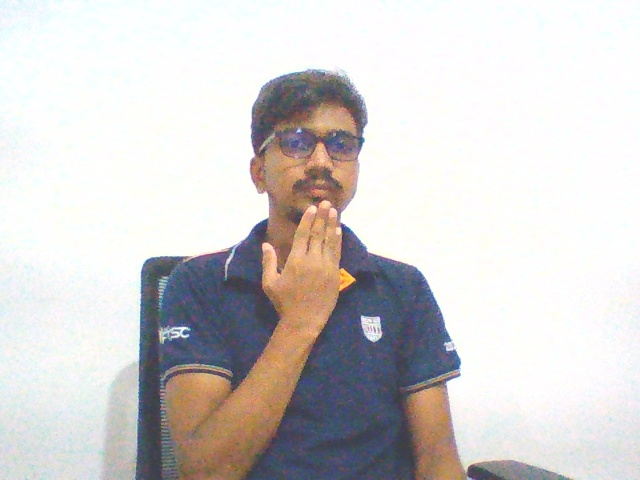mango: (251, 191, 346, 344)
